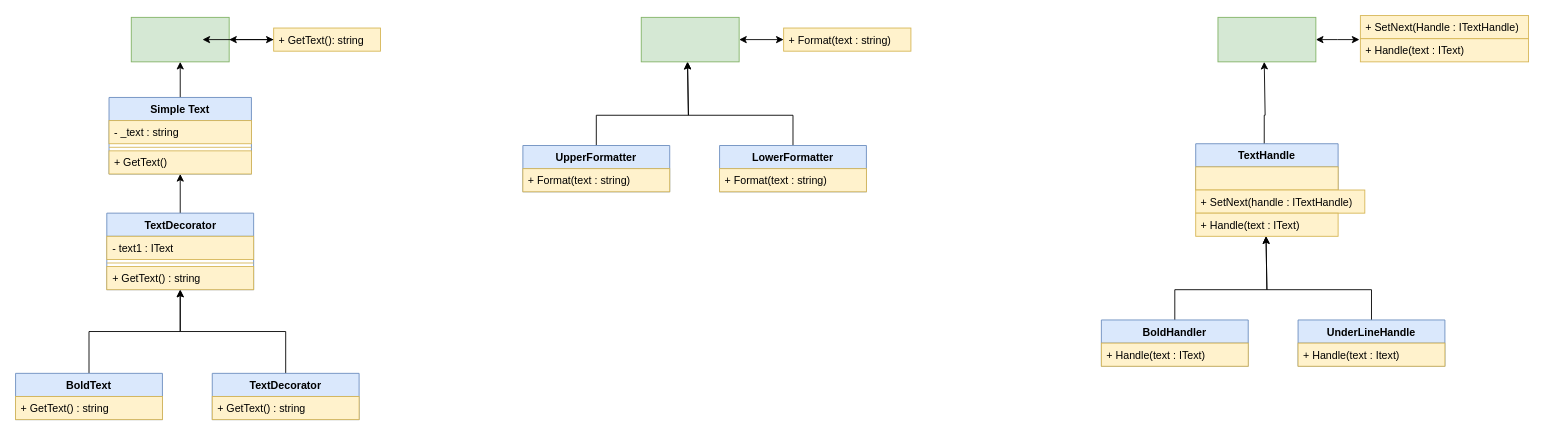
The diagram is 1544 pixels wide and 438 high, and some of its shapes have lost their labels. The shapes that lost their labels are listed below. From the top down, each one's centre as x and y in pixels, then its label:
At pixel 179 39: "«interface» IText".
At pixel 689 39: "«interface» ITextFormatter".
At pixel 1266 39: "«interface» ITextHandle".
At pixel 1266 178: "- _textHandle : ITextHandle".
